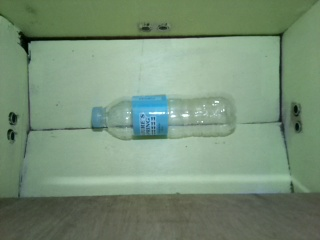bottle: (90, 93, 235, 139)
